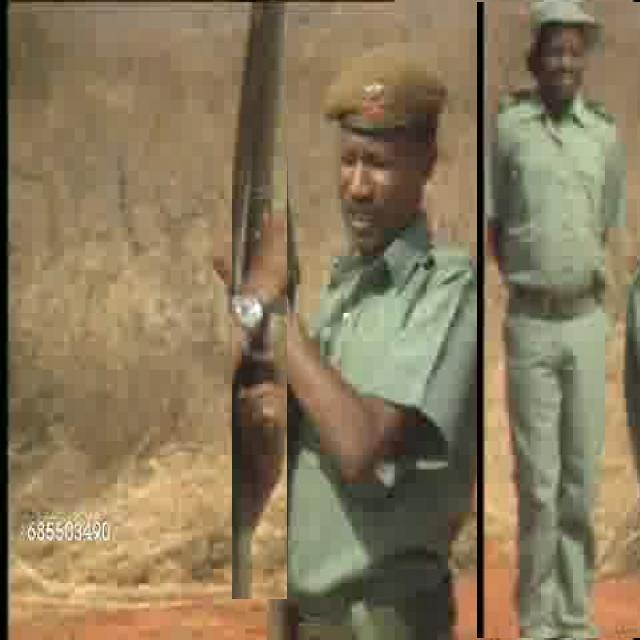poacher: (477, 2, 640, 638), (303, 42, 448, 628)
weapon: (232, 2, 287, 599)
